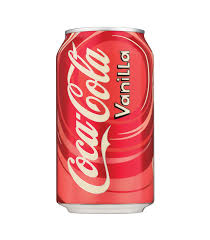can: (52, 22, 156, 217)
